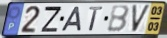2: (20, 5, 42, 34)
A: (59, 6, 83, 32)
B: (106, 4, 131, 33)
T: (88, 6, 105, 32)
V: (131, 4, 152, 34)
Z: (40, 6, 63, 33)
